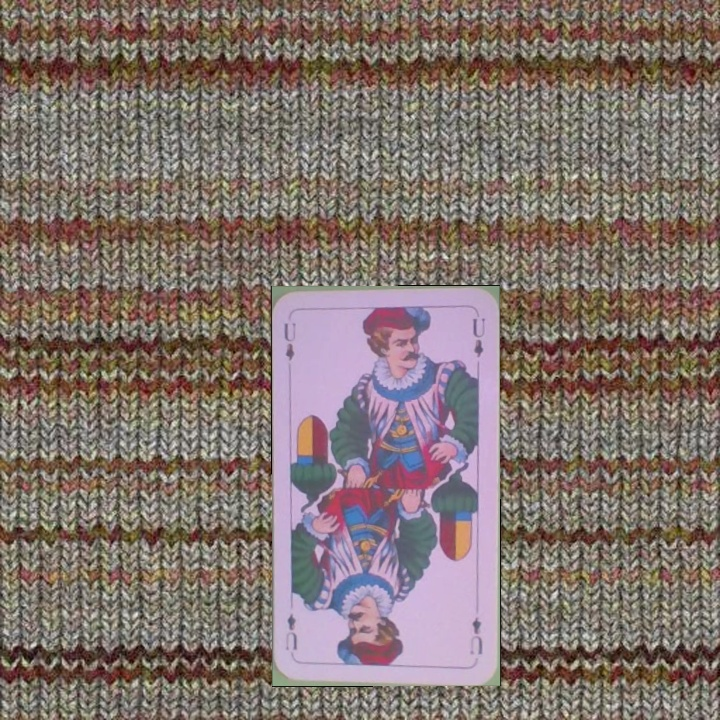EU: (279, 319, 298, 365), (466, 612, 485, 657)
